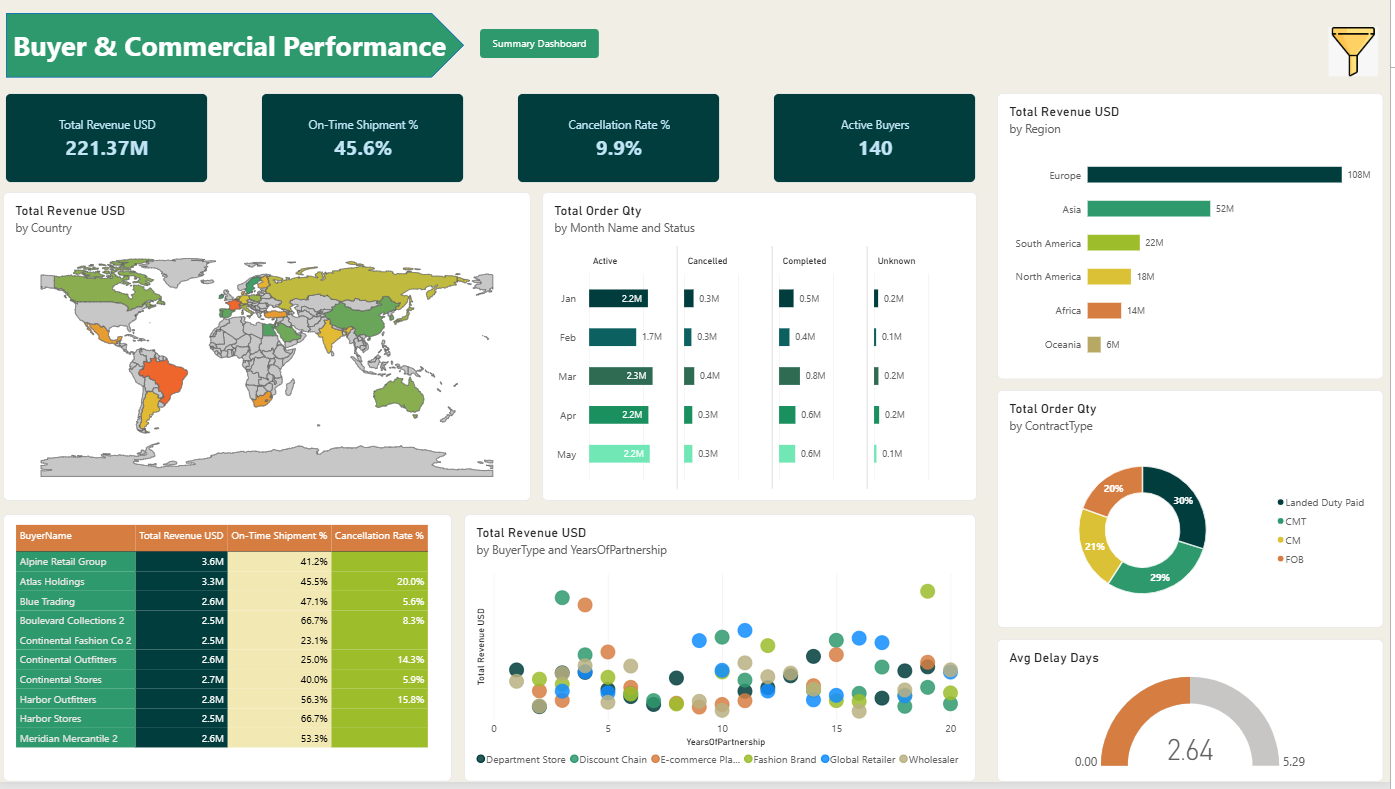

What the dashboard file says about the page in this screenshot:
{"tool":"powerbi","page":{"name":"Buy&comm","canvas":[1920,1080],"ordinal":1},"visuals":[{"type":"cardVisual","fields":{"Data":["Query1.Total Revenue USD"]},"box":[9.3,129.8,280.1,124],"z":0},{"type":"cardVisual","fields":{"Data":["Dashboard2.On-Time Shipment %"]},"box":[362.6,129.8,280.1,124],"z":1000},{"type":"cardVisual","fields":{"Data":["Dashboard2.Active Buyers"]},"box":[1069.3,129.8,280.1,124],"z":2000},{"type":"cardVisual","fields":{"Data":["Dashboard2.Cancellation Rate %"]},"box":[716,129.8,280.1,124],"z":3000},{"type":"shape","box":[11.7,19,631.7,89],"z":4000},{"type":"textbox","box":[20.4,37.9,605.5,51.1],"z":5000},{"type":"barChart","fields":{"Category":["DimBuyer2.Region"],"Y":["Query1.Total Revenue USD"]},"box":[1377.3,129.8,532.5,395.4],"z":6000},{"type":"tableEx","fields":{"Values":["DimBuyer2.BuyerName","Query1.Total Revenue USD","Dashboard2.On-Time Shipment %","Dashboard2.Cancellation Rate %"]},"box":[7.3,710.5,618.6,369.1],"z":7000},{"type":"scatterChart","fields":{"Series":["DimBuyer2.BuyerType"],"X":["DimBuyer2.YearsOfPartnership"],"Y":["Query1.Total Revenue USD"]},"box":[643.4,710.5,706.1,369.1],"z":8000},{"type":"gauge","fields":{"Y":["Dashboard2.Avg Delay Days"]},"box":[1377.3,882.7,532.5,197],"z":9000},{"type":"shapeMap","fields":{"Category":["DimBuyer2.Country"],"Value":["Query1.Total Revenue USD"]},"box":[7.3,265.5,728,426],"z":10000},{"type":"donutChart","fields":{"Category":["DimBuyer2.ContractType"],"Y":["Query1.Total Order Qty"]},"box":[1377.3,539.8,532.5,328.3],"z":11000},{"type":"barChart","fields":{"Category":["DimDate4.Month Name"],"Rows":["FactProduction5.Status"],"Y":["Query1.Total Order Qty"]},"box":[749.9,265.5,599.6,426],"z":12000},{"type":"image","box":[1831,38.4,78.5,68.1],"z":14000},{"type":"actionButton","box":[665,41.9,164.1,40.1],"z":15000}]}

Visuals, with their boxes in screenshot pixels (x1, y1, x2, y2), scaled from the page's 1920x1080 canvas onto the 1395x789 screenshot:
cardVisual - Query1.Total Revenue USD: <box>7,95,210,185</box>
cardVisual - Dashboard2.On-Time Shipment %: <box>263,95,467,185</box>
cardVisual - Dashboard2.Active Buyers: <box>777,95,980,185</box>
cardVisual - Dashboard2.Cancellation Rate %: <box>520,95,724,185</box>
shape: <box>9,14,467,79</box>
textbox: <box>15,28,455,65</box>
barChart - DimBuyer2.Region x Query1.Total Revenue USD: <box>1001,95,1388,384</box>
tableEx - DimBuyer2.BuyerName x Query1.Total Revenue USD: <box>5,519,455,788</box>
scatterChart - DimBuyer2.BuyerType x DimBuyer2.YearsOfPartnership: <box>467,519,980,788</box>
gauge - Dashboard2.Avg Delay Days: <box>1001,645,1388,788</box>
shapeMap - DimBuyer2.Country x Query1.Total Revenue USD: <box>5,194,534,505</box>
donutChart - DimBuyer2.ContractType x Query1.Total Order Qty: <box>1001,394,1388,634</box>
barChart - DimDate4.Month Name x FactProduction5.Status: <box>545,194,980,505</box>
image: <box>1330,28,1387,78</box>
actionButton: <box>483,31,602,60</box>
